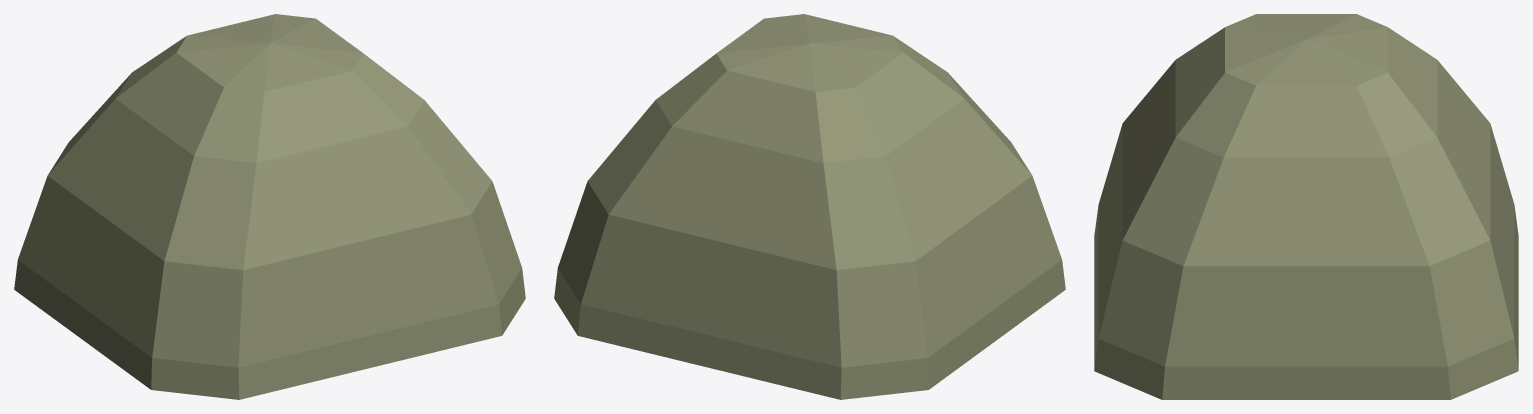
The model's file is Soviet_Helmet.glb.
3 renders of one model, left to right at view 1: azimuth 30°, elevation 25°; view 2: azimuth 150°, elevation 25°; view 3: azimuth 270°, elevation 25°, orthographic. The views are drawn at different scales.
Visible parts, largest first — view 1: Soviet_Block_Helmet; view 2: Soviet_Block_Helmet; view 3: Soviet_Block_Helmet.
Part boxes in pixels (x1=…): Soviet_Block_Helmet: x1=14, y1=14, x2=525, y2=399; Soviet_Block_Helmet: x1=554, y1=14, x2=1065, y2=399; Soviet_Block_Helmet: x1=1094, y1=14, x2=1518, y2=399.
Size of the model in its own units: 0.322 by 0.206 by 0.3.
